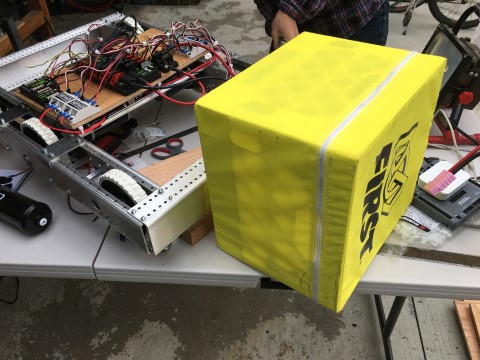cube: (195, 30, 448, 313)
